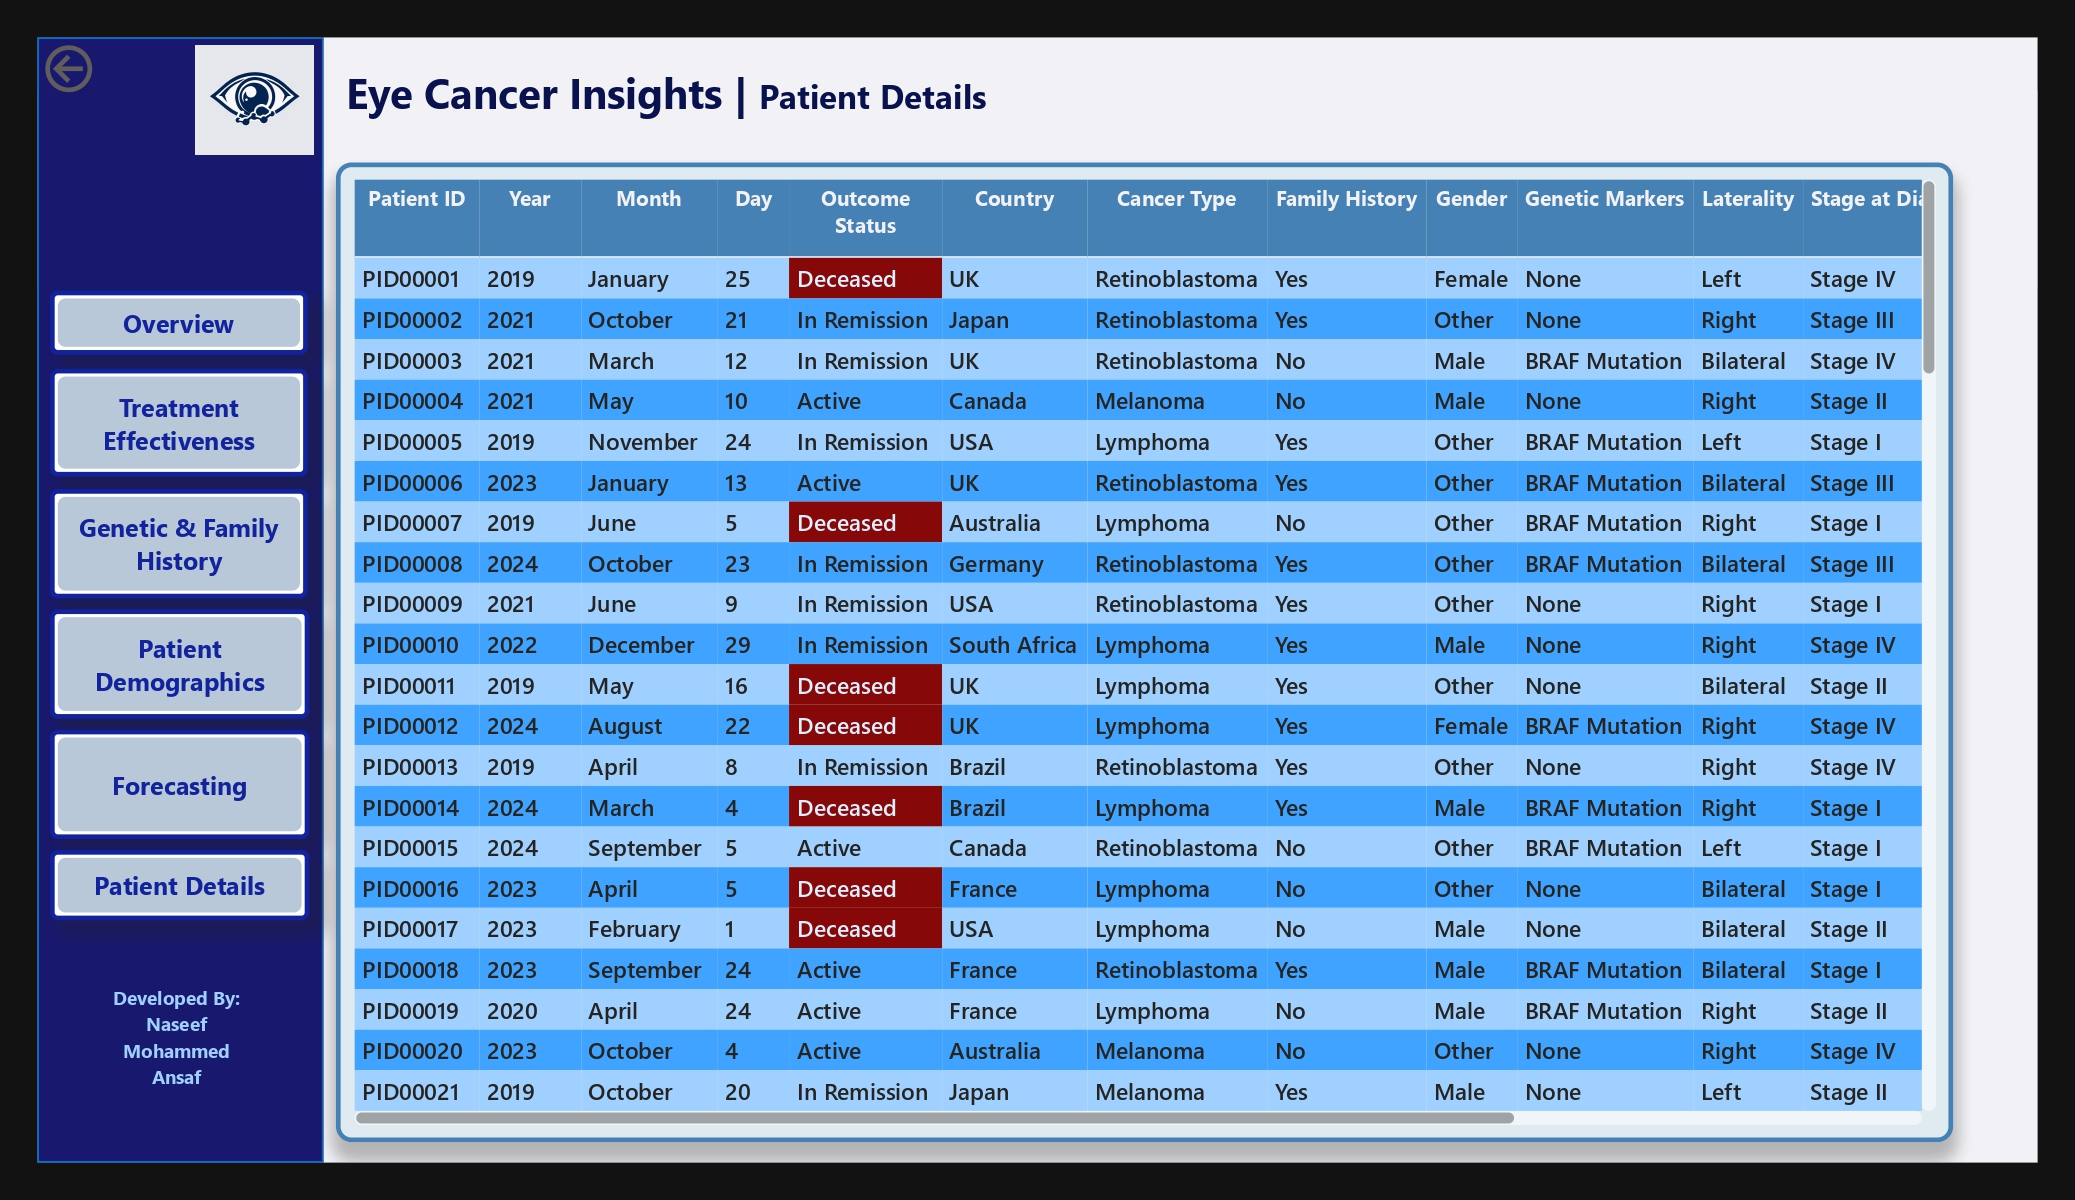

The dashboard page shown, as its layout file describes it:
{"tool":"powerbi","page":{"name":"Patient Details","canvas":[1280,720],"ordinal":5},"visuals":[{"type":"shape","box":[0,0,182.8,720.2],"z":0},{"type":"textbox","box":[182.8,12.3,439.3,47.9],"z":1000},{"type":"image","box":[96.5,0,85.9,80],"z":2000},{"type":"tableEx","fields":{"Values":["Eye cancer patients dataset_cleaned.Patient_ID","Eye cancer patients dataset_cleaned.Date_of_Diagnosis.Variation.Date Hierarchy.Year","Eye cancer patients dataset_cleaned.Date_of_Diagnosis.Variation.Date Hierarchy.Month","Eye cancer patients dataset_cleaned.Date_of_Diagnosis.Variation.Date Hierarchy.Day","Eye cancer patients dataset_cleaned.Outcome_Status","Eye cancer patients dataset_cleaned.Country","Eye cancer patients dataset_cleaned.Cancer_Type","Eye cancer patients dataset_cleaned.Family_History","Eye cancer patients dataset_cleaned.Gender","Eye cancer patients dataset_cleaned.Genetic_Markers","Eye cancer patients dataset_cleaned.Laterality","Eye cancer patients dataset_cleaned.Stage_at_Diagnosis"]},"box":[191.4,79.8,1034.4,627],"z":3000},{"type":"actionButton","box":[0,0,100,40],"z":4000},{"type":"actionButton","box":[7.6,162.5,165.6,40.5],"z":4001},{"type":"actionButton","box":[7.6,211.5,165.6,69.9],"z":4002},{"type":"actionButton","box":[7.6,288.9,165.6,69.9],"z":4003},{"type":"actionButton","box":[8.4,365.8,165.6,69.9],"z":4004},{"type":"actionButton","box":[8.4,443.1,165.6,69.9],"z":4005},{"type":"actionButton","box":[8.4,520.4,165.6,44.2],"z":4006},{"type":"textbox","box":[38,600,101.8,85.9],"z":4007}]}

Visuals, with their boxes on the page's 1280x720 design canvas (x1, y1, x2, y2). These are canvas units, not pixel positions in the 2075x1200 screenshot, which may show the page scaled, cropped or inside an application window:
shape: l=0, t=0, r=183, b=720
textbox: l=183, t=12, r=622, b=60
image: l=96, t=0, r=182, b=80
tableEx - Eye cancer patients dataset_cleaned.Patient_ID x Eye cancer patients dataset_cleaned.Date_of_Diagnosis.Variation.Date Hierarchy.Year: l=191, t=80, r=1226, b=707
actionButton: l=0, t=0, r=100, b=40
actionButton: l=8, t=162, r=173, b=203
actionButton: l=8, t=212, r=173, b=281
actionButton: l=8, t=289, r=173, b=359
actionButton: l=8, t=366, r=174, b=436
actionButton: l=8, t=443, r=174, b=513
actionButton: l=8, t=520, r=174, b=565
textbox: l=38, t=600, r=140, b=686
